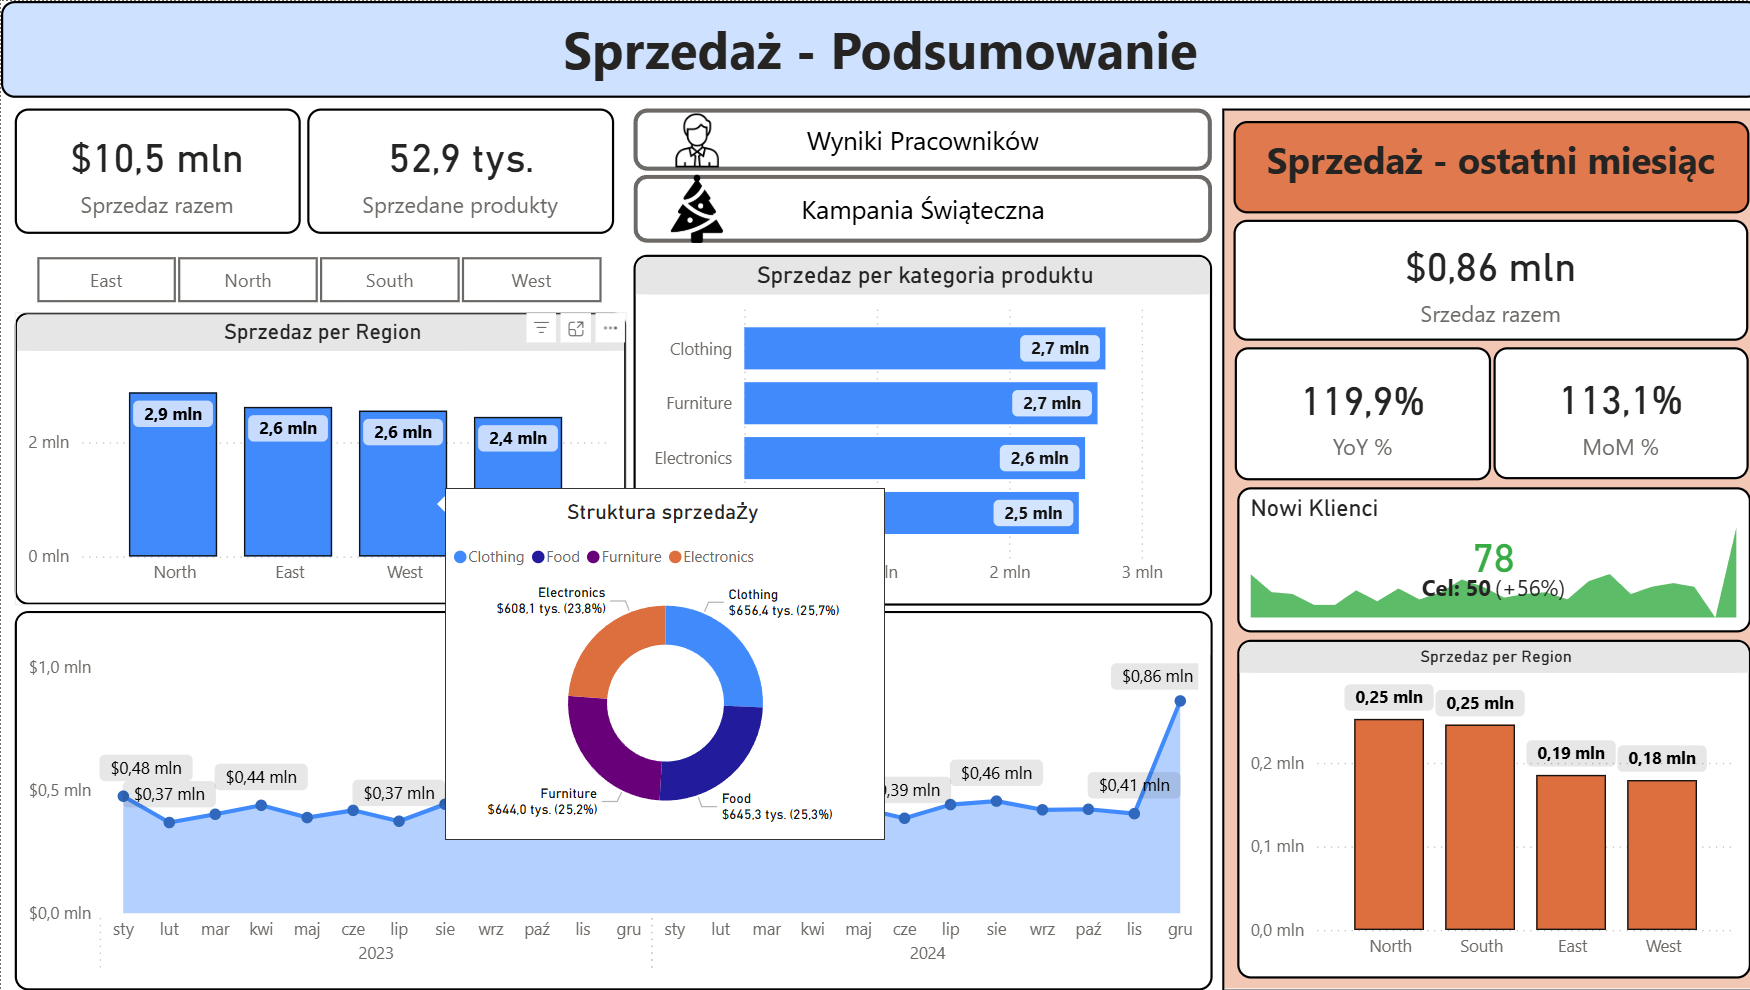

The page's visual inventory and layout, read from the dashboard file:
{"tool":"powerbi","page":{"name":"Strona 1","canvas":[1280,720],"ordinal":0},"visuals":[{"type":"shape","box":[888.6,78,391.6,642.3],"z":0},{"type":"areaChart","title":"Sprzedaz miesieczna","fields":{"Category":["Calendar.rok Hierarchia.rok","Calendar.rok Hierarchia.month_name"],"Y":["total_sales.Total Sales"]},"box":[9.9,444,871.4,275.8],"z":1000},{"type":"card","fields":{"Values":["Sum(sales_data (3).Quantity_Sold)"]},"box":[223.1,78,223.1,91.2],"z":2000},{"type":"slicer","title":"region","fields":{"Values":["sales_data (3).Region"]},"box":[0,179.1,460.4,47.3],"z":3000},{"type":"actionButton","box":[460.4,126.4,420.9,49.5],"z":4000},{"type":"actionButton","box":[460.3,77.8,420.6,45.2],"z":5000},{"type":"textbox","box":[0,0,1280,70.5],"z":6000},{"type":"card","title":"tot","fields":{"Values":["total_sales.Total Sales"]},"box":[9.9,78,207.7,91.2],"z":7000},{"type":"clusteredBarChart","title":"Sprzedaz per kategoria produktu","fields":{"Category":["total_sales.Product_Category"],"Y":["Sum(total_sales.Sales_Amount)"]},"box":[460.4,184.6,420.9,254.9],"z":8000},{"type":"textbox","box":[896.7,87.1,375.1,67.5],"z":9000},{"type":"card","fields":{"Values":["total_sales.YoY %"]},"box":[897.1,252.2,186.6,96.7],"z":10000},{"type":"card","fields":{"Values":["total_sales.MoM %"]},"box":[1085.6,252.2,185.6,96.2],"z":11000},{"type":"card","title":"tot","fields":{"Values":["total_sales.Total Sales"]},"box":[896.7,159.3,374.7,87.9],"z":12000},{"type":"kpi","title":"Nowi Klienci","fields":{"Goal":["total_sales.Cel_NowiKlienci"],"TrendLine":["Calendar.RokOkres"],"Indicator":["total_sales.Nowi_Klienci"]},"box":[899.2,353.8,373.5,105.3],"z":13000},{"type":"clusteredColumnChart","title":"Sprzedaz per Region","fields":{"Category":["sales_data (3).Region"],"Y":["Sum(total_sales.Sales_Amount)"]},"box":[899.2,464.8,373.4,246.1],"z":14000},{"type":"clusteredColumnChart","title":"Sprzedaz per Region","fields":{"Category":["sales_data (3).Region"],"Y":["Sum(total_sales.Sales_Amount)"]},"box":[9.7,226.8,444.7,212.6],"z":15000},{"type":"image","box":[474.6,126.2,63.5,49.2],"z":15001},{"type":"image","box":[482.5,81.7,46.8,38.9],"z":15002}]}

Visuals, with their boxes in screenshot pixels (x1, y1, x2, y2), scaled from the page's 1280x720 canvas onto the 1750x990 screenshot:
shape: bbox=(1215, 107, 1749, 989)
"Sprzedaz miesieczna" areaChart: bbox=(14, 610, 1205, 989)
card - Sum(sales_data (3).Quantity_Sold): bbox=(305, 107, 610, 233)
"region" slicer: bbox=(0, 246, 629, 311)
actionButton: bbox=(629, 174, 1205, 242)
actionButton: bbox=(629, 107, 1204, 169)
textbox: bbox=(0, 0, 1749, 97)
"tot" card: bbox=(14, 107, 298, 233)
"Sprzedaz per kategoria produktu" clusteredBarChart: bbox=(629, 254, 1205, 604)
textbox: bbox=(1226, 120, 1739, 213)
card - total_sales.YoY %: bbox=(1227, 347, 1482, 480)
card - total_sales.MoM %: bbox=(1484, 347, 1738, 479)
"tot" card: bbox=(1226, 219, 1738, 340)
"Nowi Klienci" kpi: bbox=(1229, 486, 1740, 631)
"Sprzedaz per Region" clusteredColumnChart: bbox=(1229, 639, 1740, 977)
"Sprzedaz per Region" clusteredColumnChart: bbox=(13, 312, 621, 604)
image: bbox=(649, 174, 736, 241)
image: bbox=(660, 112, 724, 166)
